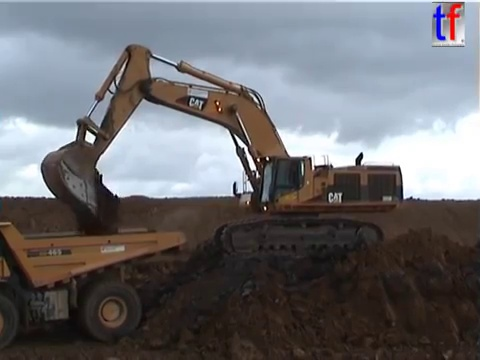excavator: (37, 41, 406, 262)
truck: (1, 219, 189, 351)
